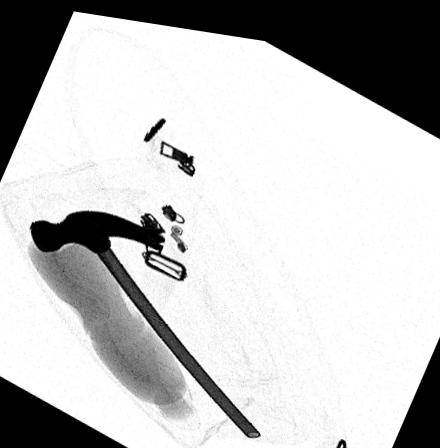Hammer: (29, 207, 261, 430)
